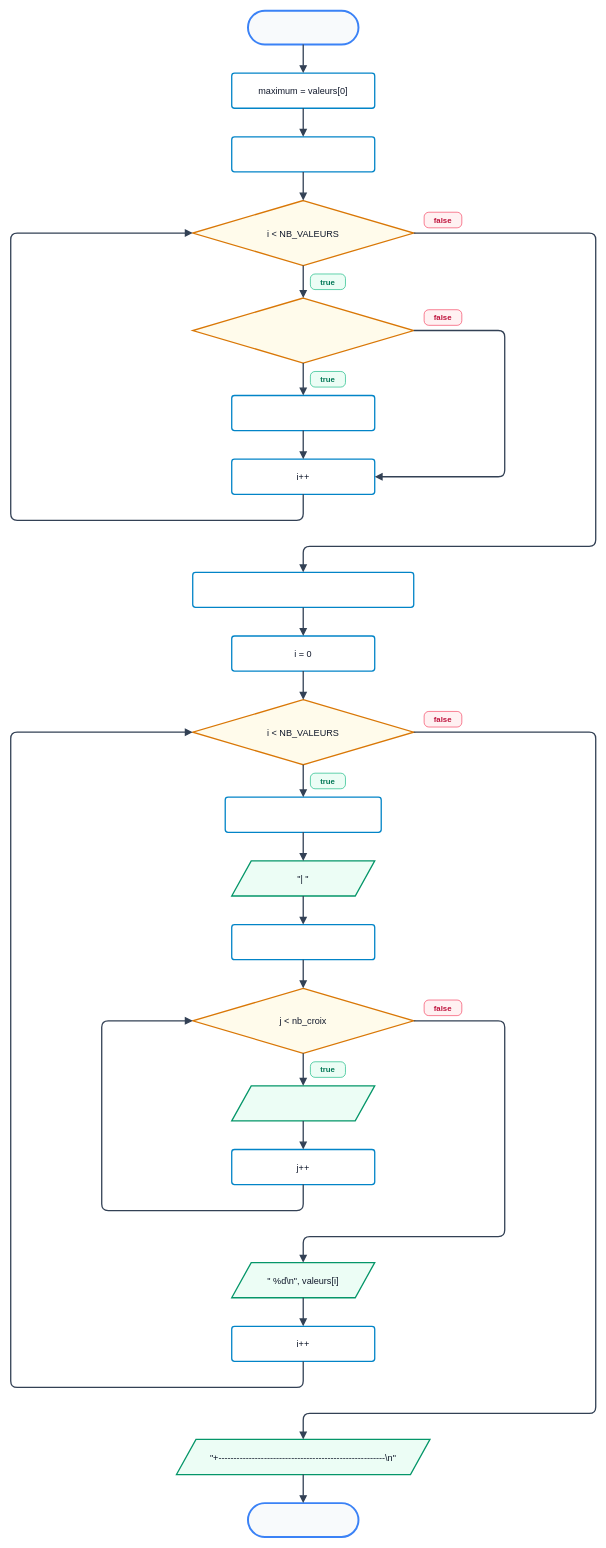
Some shapes in this 606 by 1548 pixel diagram are drawn without their labels. Each missing label, with the centre of its shape:
"x": point 303,1103
echelle = (float)MAX_LONGUEUR / maximum: point 303,589
end: point 303,1520
i = 1: point 303,154
j = 0: point 303,942
maximum = valeurs[i]: point 303,413
nb_croix = valeurs[i] * echelle: point 303,814
start: point 303,27
valeurs[i] > maximum: point 303,330
